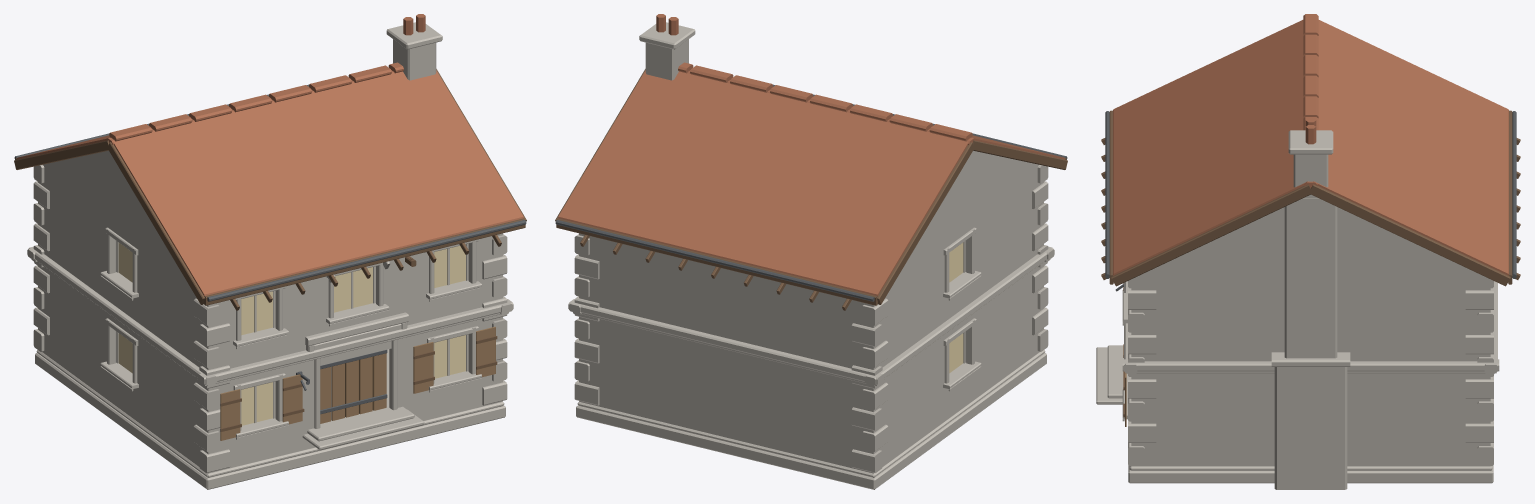
Rendered from house_stone_a.glb.
3 renders of one model, left to right at view 1: azimuth 30°, elevation 25°; view 2: azimuth 150°, elevation 25°; view 3: azimuth 270°, elevation 25°, orthographic. The views are drawn at different scales.
Visible parts, largest first — view 1: house_stone_a; view 2: house_stone_a; view 3: house_stone_a.
Part boxes in pixels (x1=…): house_stone_a: x1=14, y1=14, x2=526, y2=489; house_stone_a: x1=555, y1=14, x2=1067, y2=489; house_stone_a: x1=1096, y1=14, x2=1520, y2=489.
Bounding box in the file's own units: 13.14 × 13.06 × 14.06.
